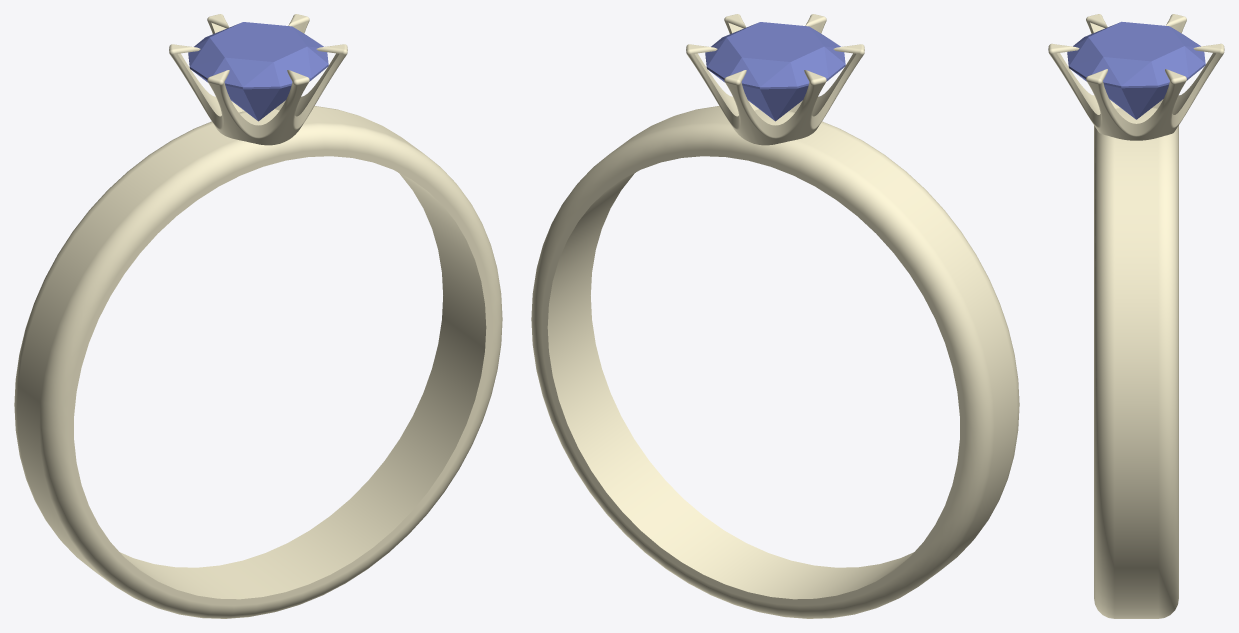
Rendered from Anel.glb.
3 views of the same model, side by side, from view 1: azimuth 30°, elevation 25°; view 2: azimuth 150°, elevation 25°; view 3: azimuth 270°, elevation 25° (orthographic).
Visible parts, largest first — view 1: Corpo3, Corpo1, Corpo2; view 2: Corpo3, Corpo1, Corpo2; view 3: Corpo3, Corpo1, Corpo2.
Boxes of the visible parts, bbox=[...] form: Corpo3: bbox=[14, 106, 502, 618]; Corpo1: bbox=[188, 22, 328, 121]; Corpo2: bbox=[169, 14, 347, 145]; Corpo3: bbox=[531, 106, 1019, 618]; Corpo1: bbox=[705, 22, 845, 121]; Corpo2: bbox=[686, 14, 864, 145]; Corpo3: bbox=[1094, 108, 1178, 618]; Corpo1: bbox=[1067, 21, 1205, 119]; Corpo2: bbox=[1048, 14, 1224, 140].
Bounding box in the file's own units: 38.26 × 44.53 × 12.85.
